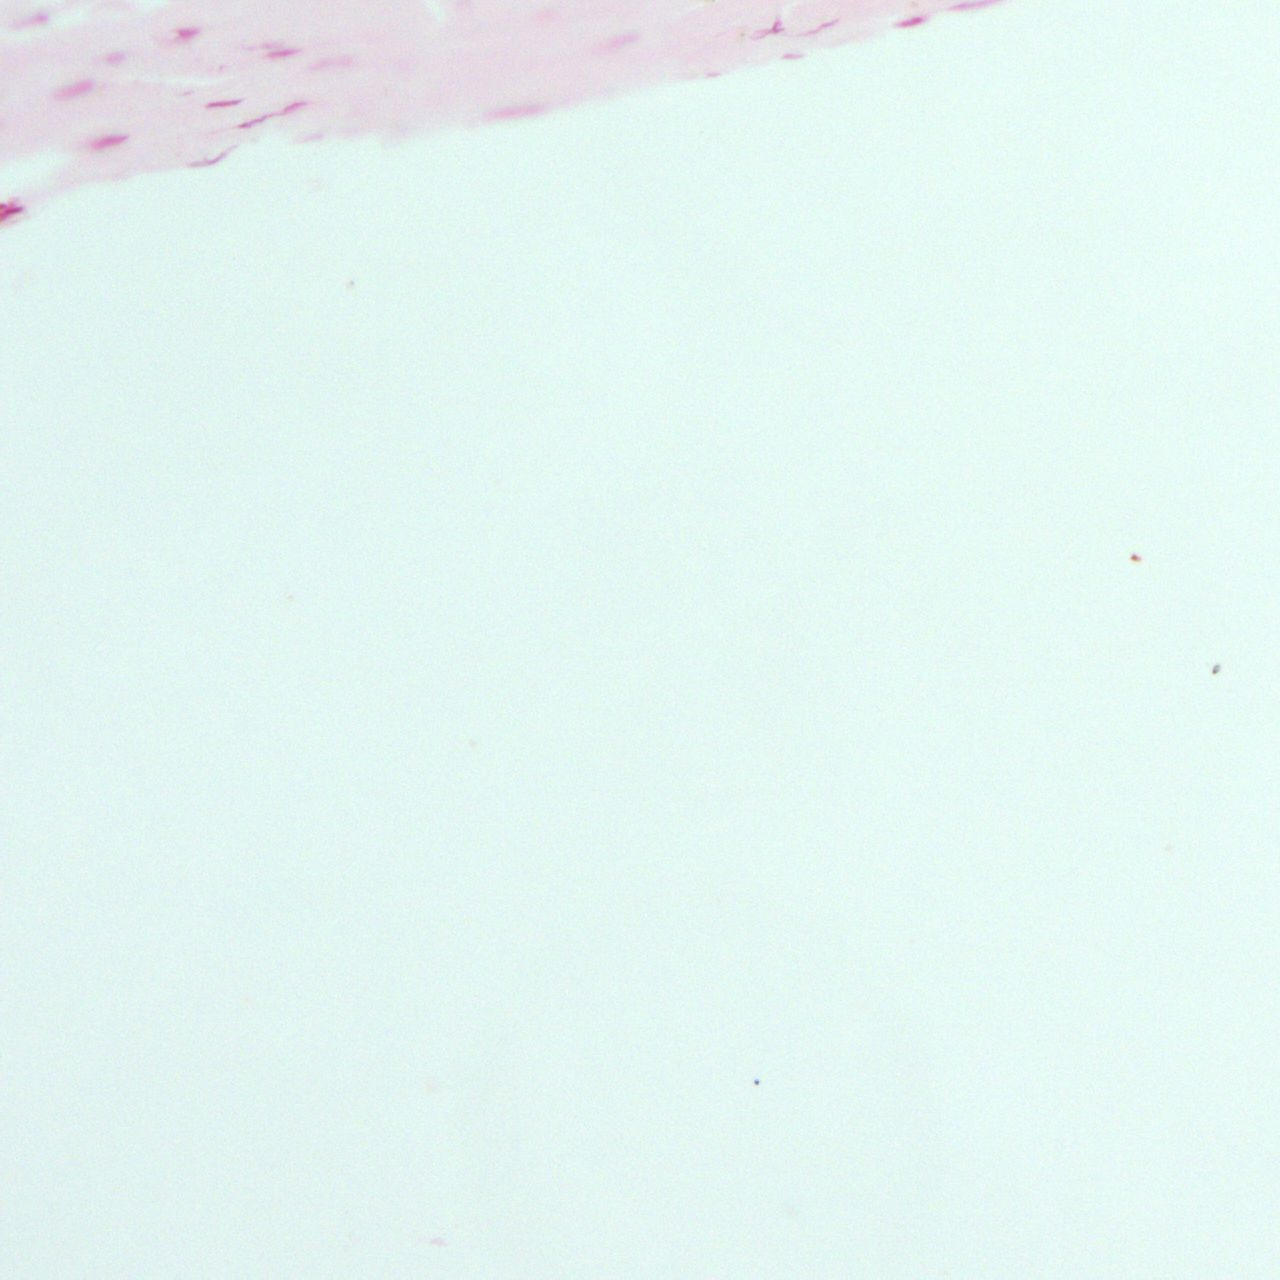dust: (1128, 554, 1144, 563), (1211, 662, 1220, 674), (751, 1080, 758, 1085)
nucleus-AC: (481, 104, 540, 123), (234, 110, 281, 132), (190, 147, 229, 173), (749, 18, 784, 43), (57, 79, 95, 101), (803, 16, 838, 39), (893, 12, 928, 32), (91, 131, 127, 151), (264, 45, 298, 62), (247, 38, 280, 55), (311, 57, 350, 70), (204, 96, 241, 109), (280, 98, 305, 115), (175, 26, 199, 38), (781, 50, 803, 62), (105, 53, 124, 63), (701, 72, 720, 79), (35, 14, 47, 23)
